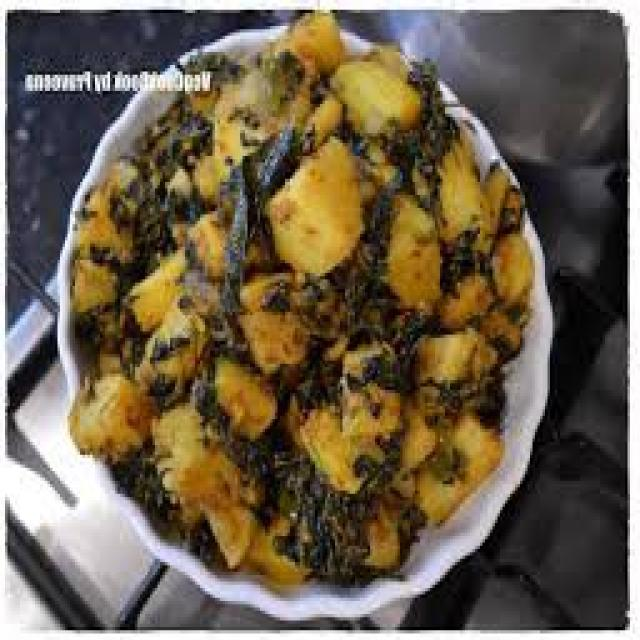Aloo Methi: (70, 9, 541, 592)
